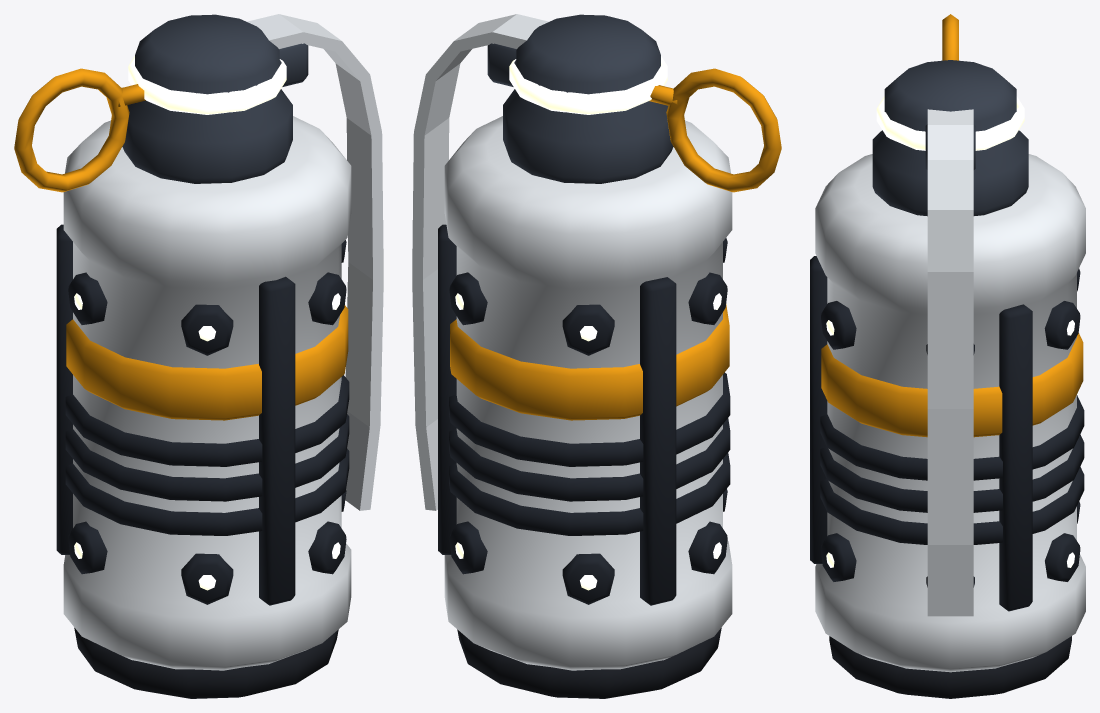
Rendered from item_flashbang.glb.
3 renders of one model, left to right at view 1: azimuth 30°, elevation 25°; view 2: azimuth 150°, elevation 25°; view 3: azimuth 270°, elevation 25°, orthographic. The views are drawn at different scales.
Visible parts, largest first — view 1: FlashAlumCanister, FlashFuzeHead, FlashSpoonLever, AmberCautionStripe, GuardRail_2, FlashBasePad, DarkGripRib_2, DarkGripRib_1, DarkGripRib_0, FlashPullRing, GuardRail_1, FlashTopLED (+7 smaller); view 2: FlashAlumCanister, FlashFuzeHead, FlashSpoonLever, AmberCautionStripe, GuardRail_1, FlashBasePad, DarkGripRib_2, DarkGripRib_1, DarkGripRib_0, FlashPullRing, GuardRail_0, FlashTopLED (+7 smaller); view 3: FlashAlumCanister, FlashSpoonLever, FlashFuzeHead, GuardRail_0, AmberCautionStripe, FlashBasePad, DarkGripRib_2, DarkGripRib_1, DarkGripRib_0, GuardRail_2, FlashTopLED, FlashPortBezel_0_5 (+4 smaller).
Boxes of the visible parts, left/top/right/bottom form: FlashAlumCanister: left=63, top=116, right=351, bottom=670; FlashFuzeHead: left=122, top=14, right=292, bottom=183; FlashSpoonLever: left=247, top=14, right=383, bottom=510; AmberCautionStripe: left=66, top=305, right=348, bottom=420; GuardRail_2: left=259, top=276, right=295, bottom=605; FlashBasePad: left=74, top=627, right=338, bottom=698; DarkGripRib_2: left=65, top=375, right=349, bottom=466; DarkGripRib_1: left=65, top=414, right=349, bottom=501; DarkGripRib_0: left=65, top=448, right=349, bottom=535; FlashPullRing: left=14, top=68, right=129, bottom=192; GuardRail_1: left=56, top=224, right=72, bottom=554; FlashTopLED: left=128, top=56, right=286, bottom=114; FlashAlumCanister: left=444, top=116, right=732, bottom=670; FlashFuzeHead: left=503, top=14, right=673, bottom=183; FlashSpoonLever: left=412, top=14, right=548, bottom=510; AmberCautionStripe: left=450, top=304, right=729, bottom=420; GuardRail_1: left=640, top=277, right=676, bottom=605; FlashBasePad: left=457, top=627, right=721, bottom=698; DarkGripRib_2: left=449, top=372, right=730, bottom=466; DarkGripRib_1: left=449, top=418, right=730, bottom=501; DarkGripRib_0: left=449, top=452, right=730, bottom=535; FlashPullRing: left=666, top=68, right=781, bottom=192; GuardRail_0: left=438, top=224, right=456, bottom=554; FlashTopLED: left=509, top=56, right=667, bottom=114; FlashAlumCanister: left=815, top=154, right=1085, bottom=672; FlashSpoonLever: left=927, top=109, right=973, bottom=616; FlashFuzeHead: left=872, top=60, right=1028, bottom=216; GuardRail_0: left=999, top=304, right=1032, bottom=611; AmberCautionStripe: left=821, top=333, right=1083, bottom=437; FlashBasePad: left=829, top=636, right=1071, bottom=698; DarkGripRib_2: left=820, top=395, right=1084, bottom=480; DarkGripRib_1: left=820, top=434, right=1084, bottom=512; DarkGripRib_0: left=820, top=467, right=1084, bottom=544; GuardRail_2: left=810, top=256, right=827, bottom=563; FlashTopLED: left=876, top=96, right=1024, bottom=150; FlashPortBezel_0_5: left=821, top=533, right=856, bottom=581.
Bounding box in the file's own units: 0.2162 × 0.358 × 0.155.
